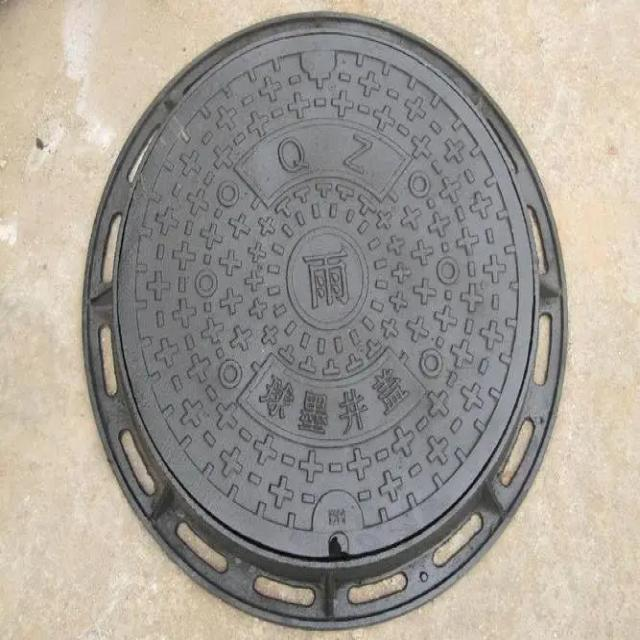manhole: (80, 13, 569, 633)
